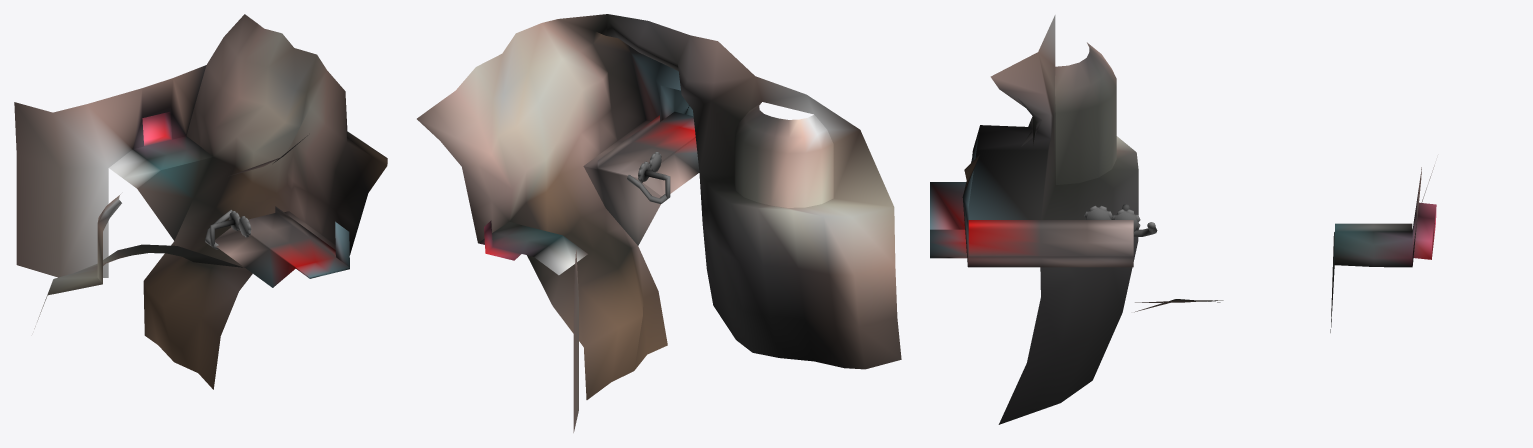
Rendered from inside_bridge.glb.
3 views of the same model, side by side, from view 1: azimuth 30°, elevation 25°; view 2: azimuth 150°, elevation 25°; view 3: azimuth 270°, elevation 25° (orthographic). The views are drawn at different scales.
Parts seen in each view (by area): view 1: Plane.006; view 2: Plane.006; view 3: Plane.006.
Boxes of the visible parts, x1=… form: Plane.006: x1=14, y1=14, x2=387, y2=389; Plane.006: x1=417, y1=14, x2=901, y2=432; Plane.006: x1=930, y1=15, x2=1436, y2=424.
Bounding box in the file's own units: 44.62 × 35.77 × 48.3.
